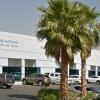Palm tree: (33, 3, 93, 100)
